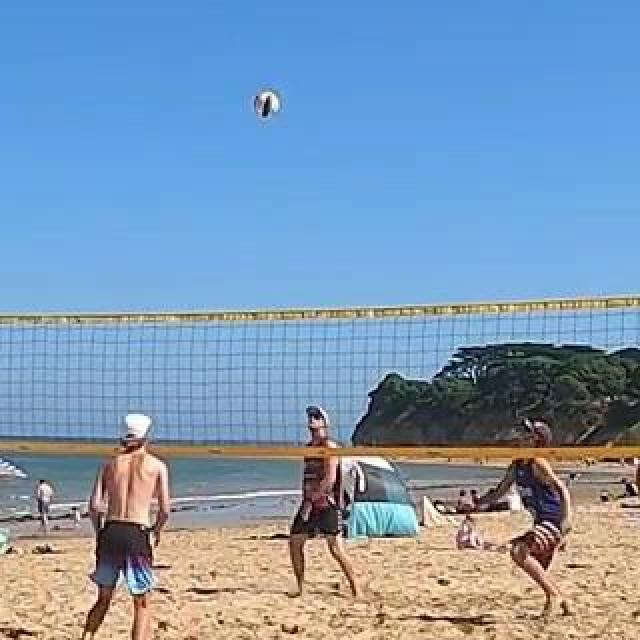volleyball: (254, 91, 280, 117)
